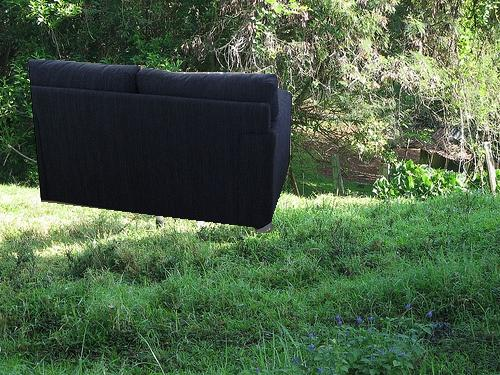tampered: (28, 59, 292, 233)
